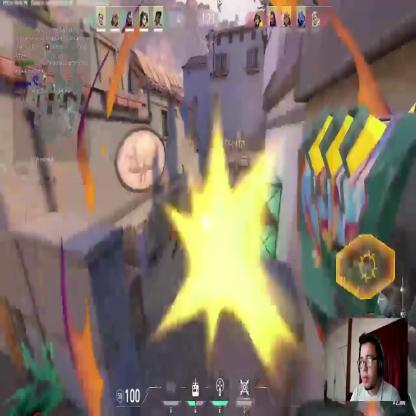enemy: (172, 216, 188, 266)
